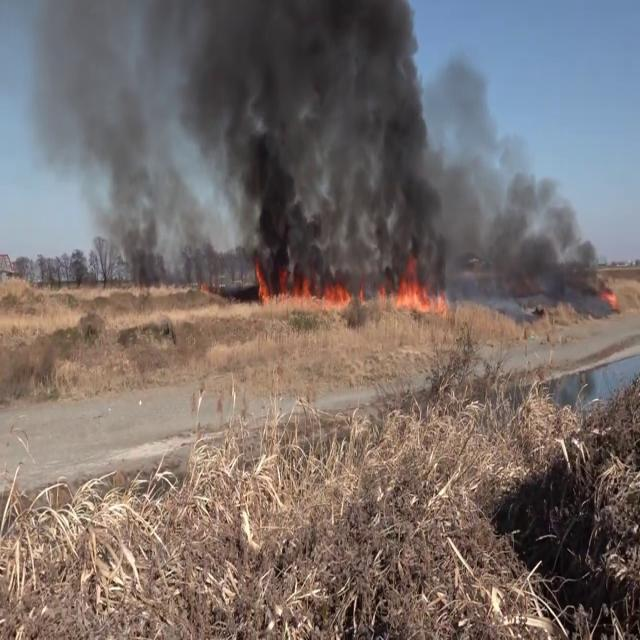Fire: (252, 253, 356, 313), (392, 255, 450, 317)
Smoke: (185, 1, 452, 271), (19, 0, 216, 276), (432, 45, 609, 304)
